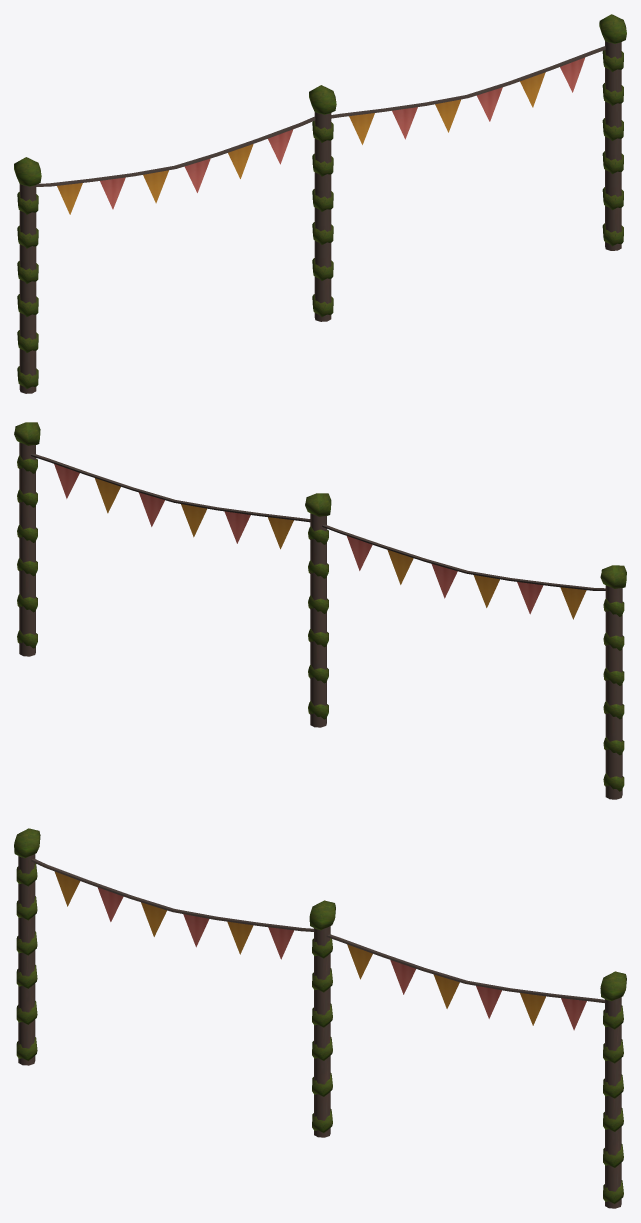
The model's file is pm-fair-flags-line.glb.
3 views of the same model, one above another, from view 1: azimuth 30°, elevation 25°; view 2: azimuth 150°, elevation 25°; view 3: azimuth 330°, elevation 25° (orthographic).
Visible parts, largest first — view 1: Fair_Flags_Line; view 2: Fair_Flags_Line; view 3: Fair_Flags_Line.
Boxes of the visible parts, box(x1,y1,x2,y2) form: Fair_Flags_Line: box(14, 14, 626, 393); Fair_Flags_Line: box(14, 422, 626, 799); Fair_Flags_Line: box(14, 828, 626, 1208).
Size of what is drawn, in the model's own units: 19.63 by 7.13 by 0.791.
3 materials, 3 textured.
